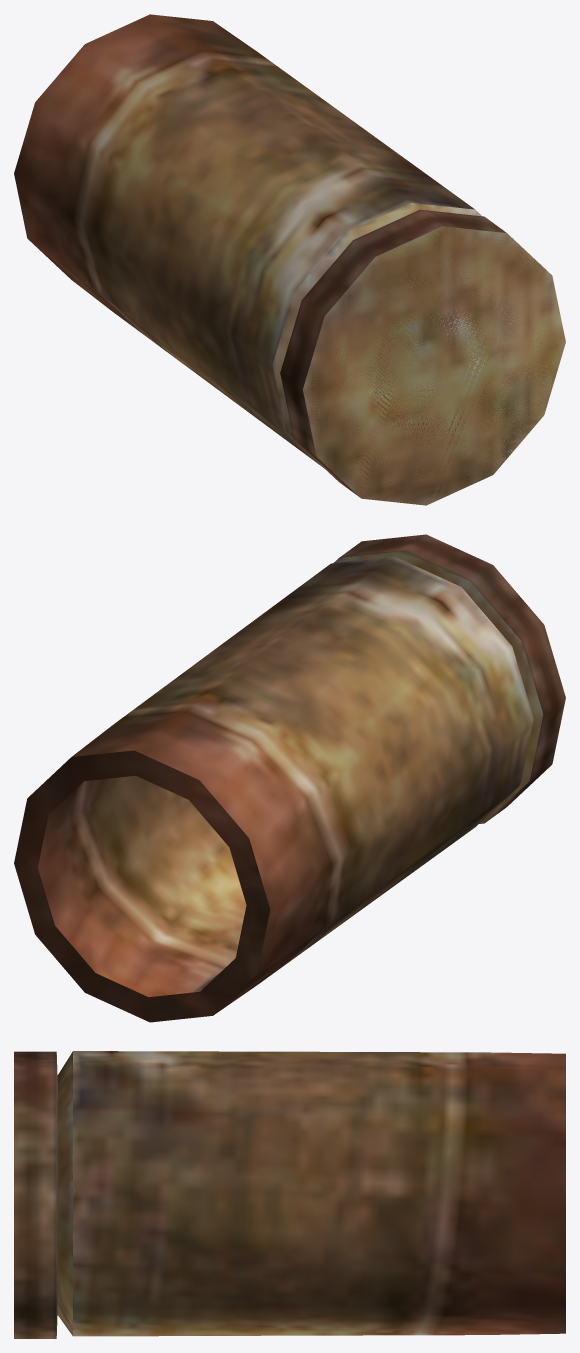
File: bullet.obj
3 renders of one model, top to bottom at view 1: azimuth 30°, elevation 25°; view 2: azimuth 150°, elevation 25°; view 3: azimuth 270°, elevation 25°, orthographic. The views are drawn at different scales.
Parts seen in each view (by area): view 1: bullet; view 2: bullet; view 3: bullet.
Part boxes in pixels (left/top/right/bottom): bullet: left=14, top=14, right=565, bottom=505; bullet: left=14, top=534, right=565, bottom=1022; bullet: left=14, top=1051, right=565, bottom=1338.
Bounding box in the file's own units: 1.75 × 1.75 × 3.36.
Materials: 1 (1 with a texture image).
